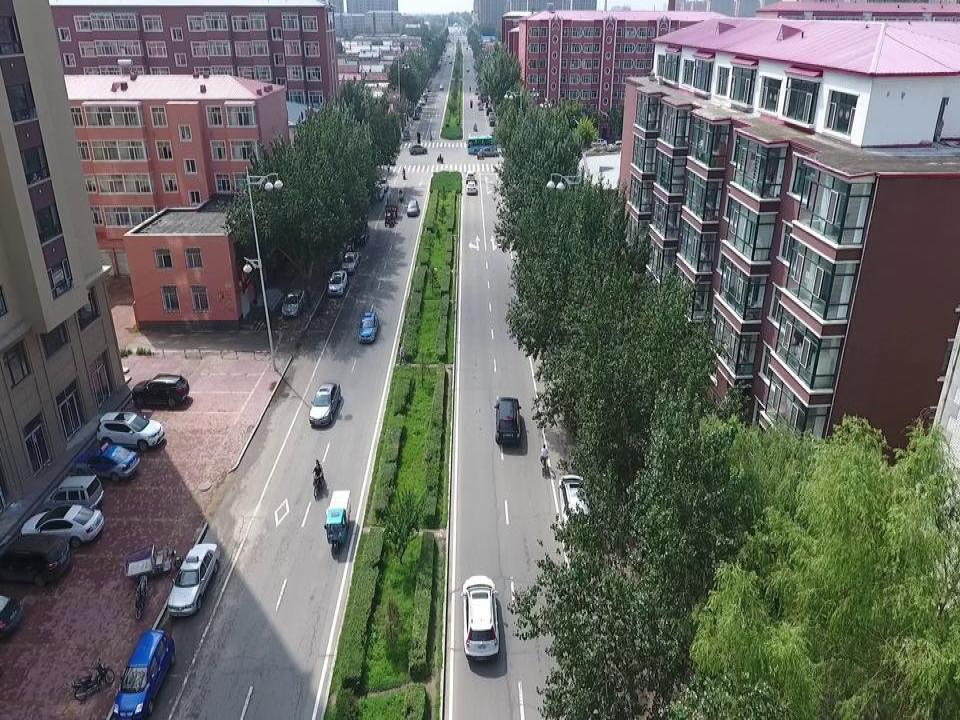car: (113, 628, 175, 717), (457, 572, 504, 663), (167, 540, 220, 619), (0, 531, 70, 588), (22, 505, 104, 551), (72, 443, 140, 485), (95, 410, 163, 450), (41, 474, 106, 514), (557, 469, 595, 536), (131, 373, 190, 410), (306, 377, 342, 428), (493, 395, 527, 446), (355, 308, 380, 343), (281, 286, 306, 318), (347, 219, 370, 245), (326, 268, 346, 297), (341, 249, 359, 276), (405, 198, 420, 219)
